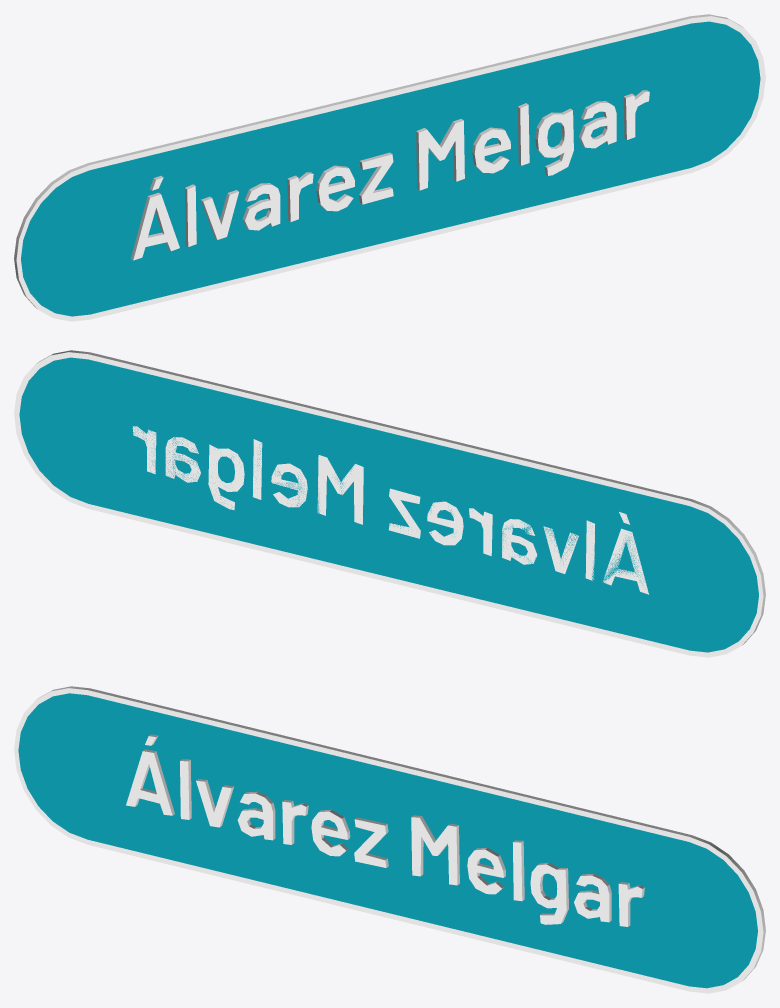
The model's file is alvarezmelgarOBJ.obj.
3 renders of one model, top to bottom at view 1: azimuth 30°, elevation 25°; view 2: azimuth 150°, elevation 25°; view 3: azimuth 330°, elevation 25°, orthographic.
Visible parts, largest first — view 1: Entorno_51_Entorno_1__24017_, Texto_de_modelo_Texto_de_modelo_4__24005_, Entorno_52_Entorno_1__24029_; view 2: Entorno_51_Entorno_1__24017_, Texto_de_modelo_Texto_de_modelo_4__24005_, Entorno_52_Entorno_1__24029_; view 3: Entorno_51_Entorno_1__24017_, Texto_de_modelo_Texto_de_modelo_4__24005_, Entorno_52_Entorno_1__24029_.
Boxes of the visible parts, x1,y1,x2,y2 form: Entorno_51_Entorno_1__24017_: (21, 21, 760, 316); Texto_de_modelo_Texto_de_modelo_4__24005_: (131, 90, 649, 260); Entorno_52_Entorno_1__24029_: (14, 14, 765, 321); Entorno_51_Entorno_1__24017_: (19, 357, 758, 652); Texto_de_modelo_Texto_de_modelo_4__24005_: (132, 426, 648, 594); Entorno_52_Entorno_1__24029_: (14, 350, 765, 657); Entorno_51_Entorno_1__24017_: (18, 693, 757, 988); Texto_de_modelo_Texto_de_modelo_4__24005_: (126, 734, 644, 926); Entorno_52_Entorno_1__24029_: (14, 686, 765, 993).
Size of the model in its own units: 52.69 by 10.39 by 0.6.
